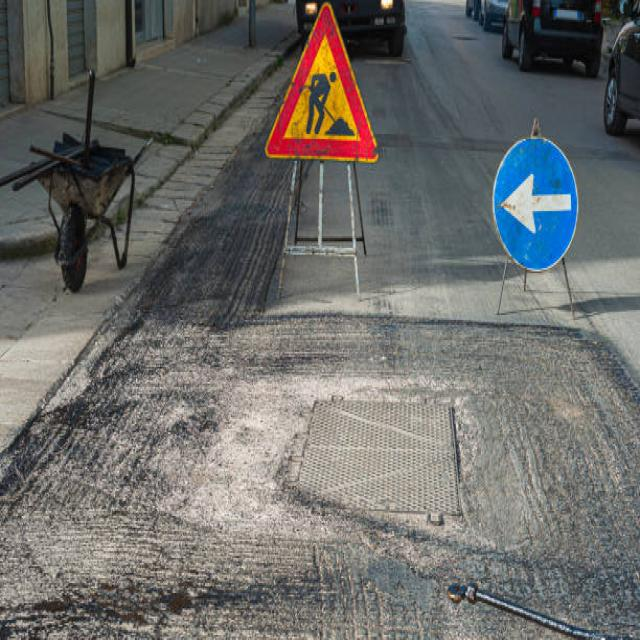road_work: (263, 0, 380, 165)
